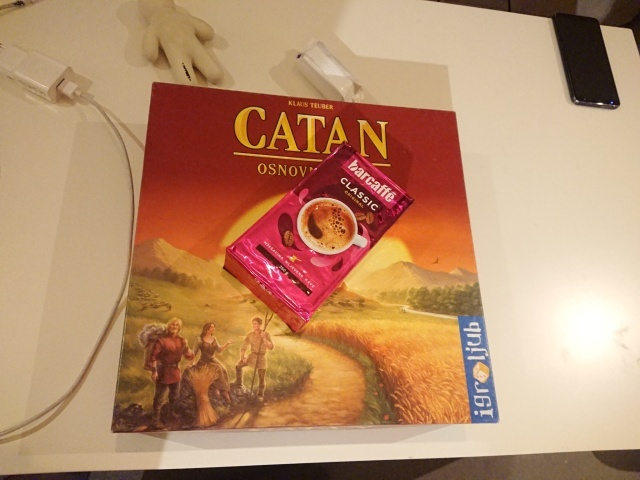Barcaffe Classic Original 225g: (220, 138, 418, 325)
